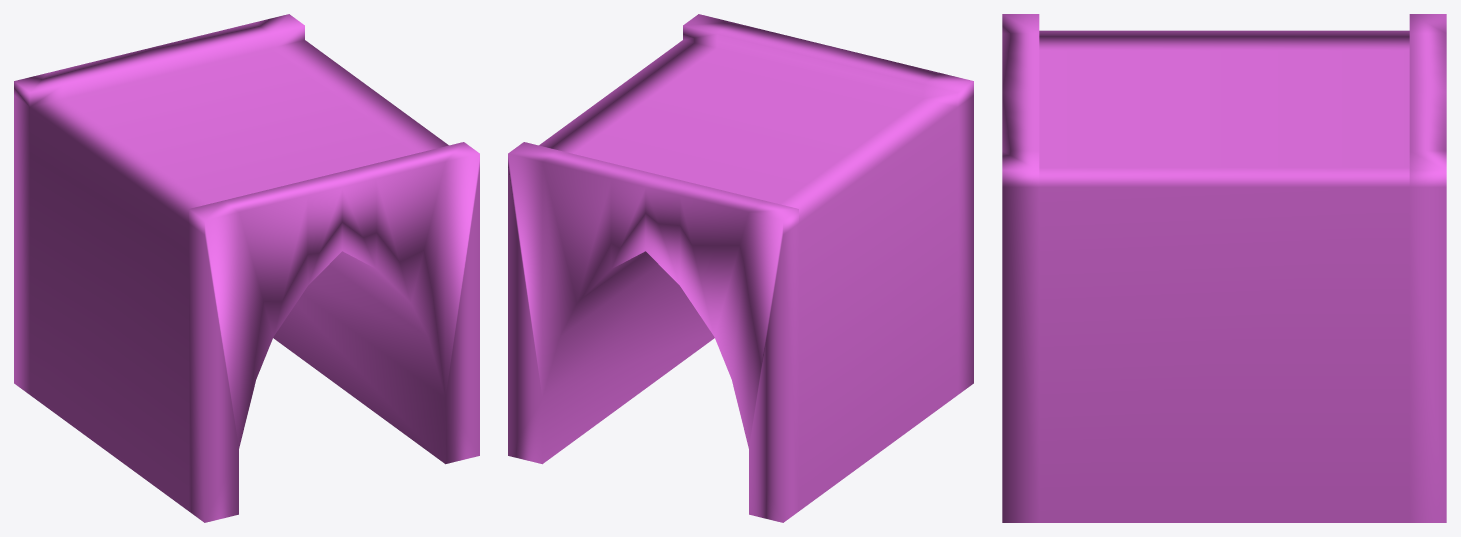
The model's file is RD_Arch_x1.fbx.
3 renders of one model, left to right at view 1: azimuth 30°, elevation 25°; view 2: azimuth 150°, elevation 25°; view 3: azimuth 270°, elevation 25°, orthographic. The views are drawn at different scales.
Parts seen in each view (by area): view 1: Mesh; view 2: Mesh; view 3: Mesh.
Boxes of the visible parts, left/top/right/bottom form: Mesh: left=14, top=14, right=479, bottom=522; Mesh: left=508, top=14, right=973, bottom=522; Mesh: left=1002, top=14, right=1446, bottom=522.
Bounding box in the file's own units: 400 × 420 × 480.
